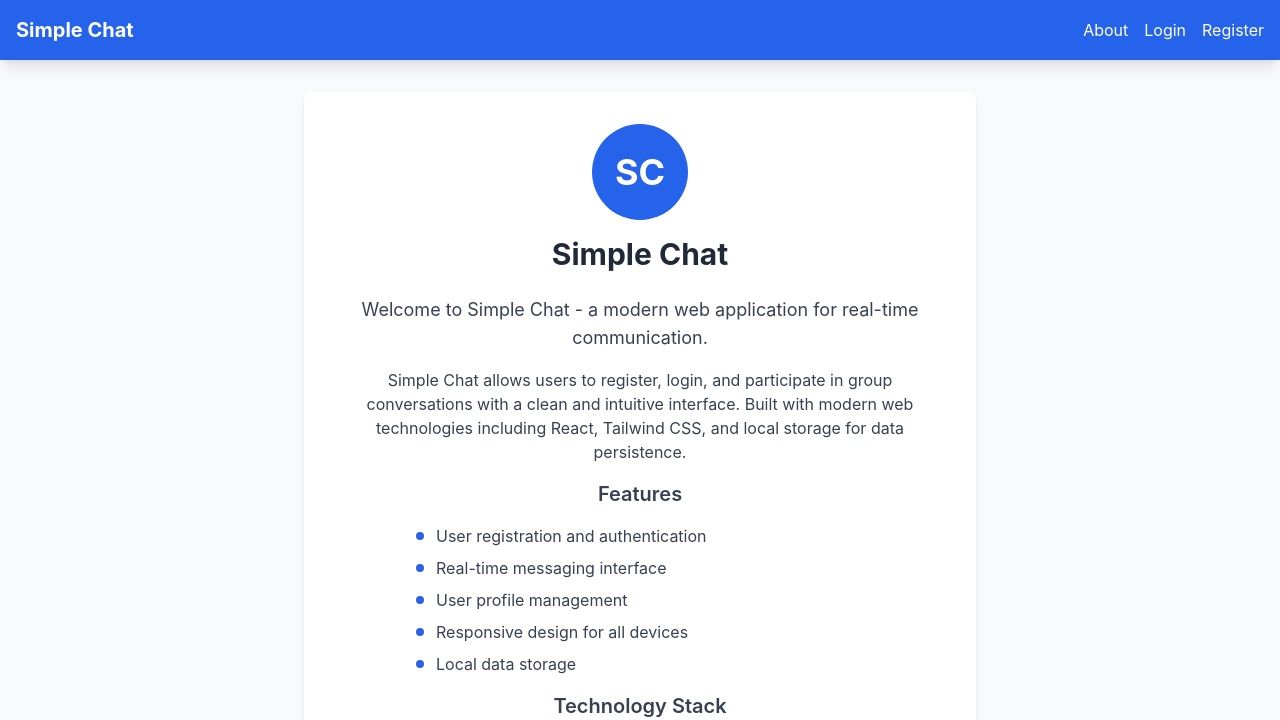
Test: Navigation › Unauthenticated User › should navigate to login page
The image size is (1280, 720).
Click the link "Login" at point(1165, 30), box [1144,18,1186,42]
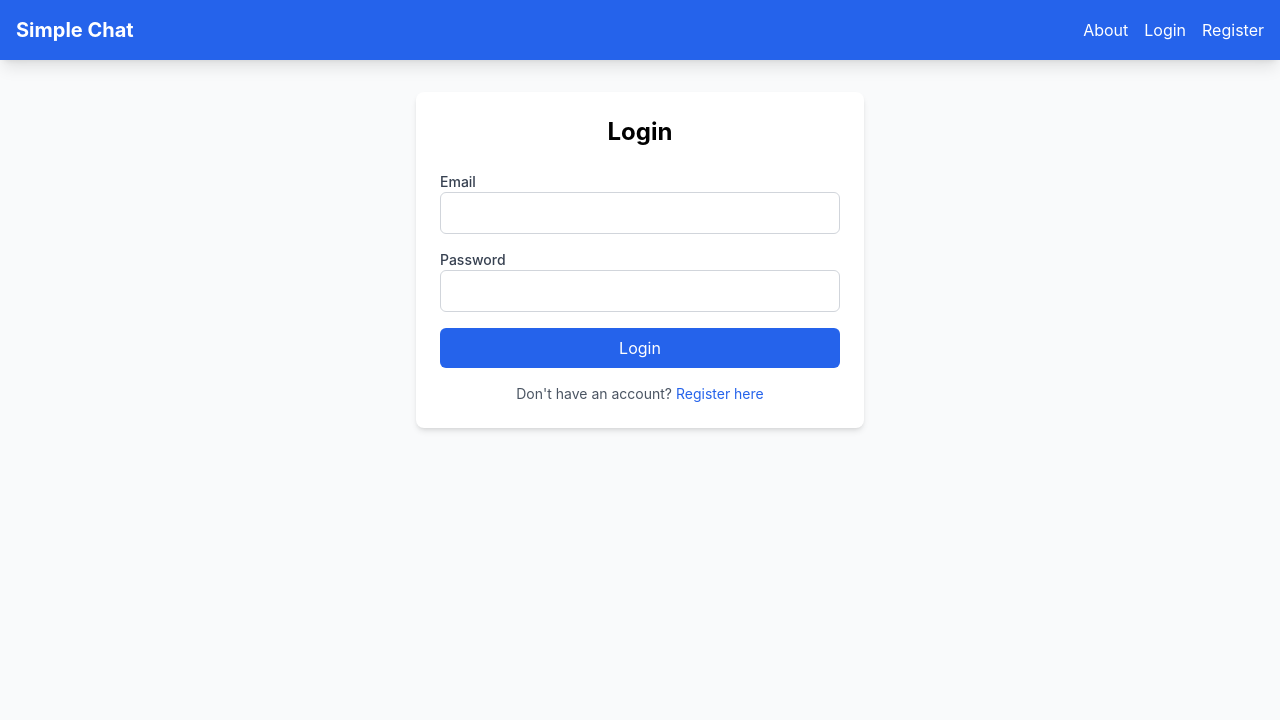
Expected: the heading "Login" is shown, [608,117,672,146]
